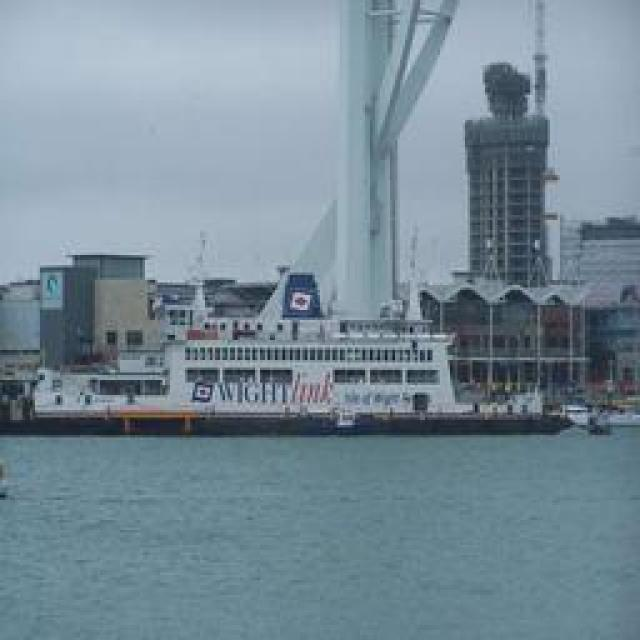CIV_Ship: (18, 190, 580, 435)
